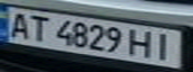2: (87, 21, 106, 53)
4: (51, 17, 75, 46)
8: (69, 19, 90, 49)
9: (103, 24, 127, 55)
A: (3, 9, 33, 39)
H: (127, 26, 157, 60)
I: (148, 30, 181, 61)
T: (24, 12, 54, 42)
